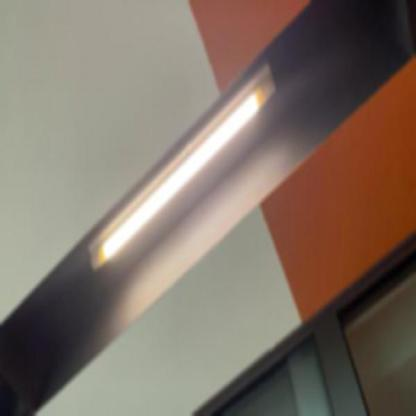light_on: (82, 52, 286, 283)
